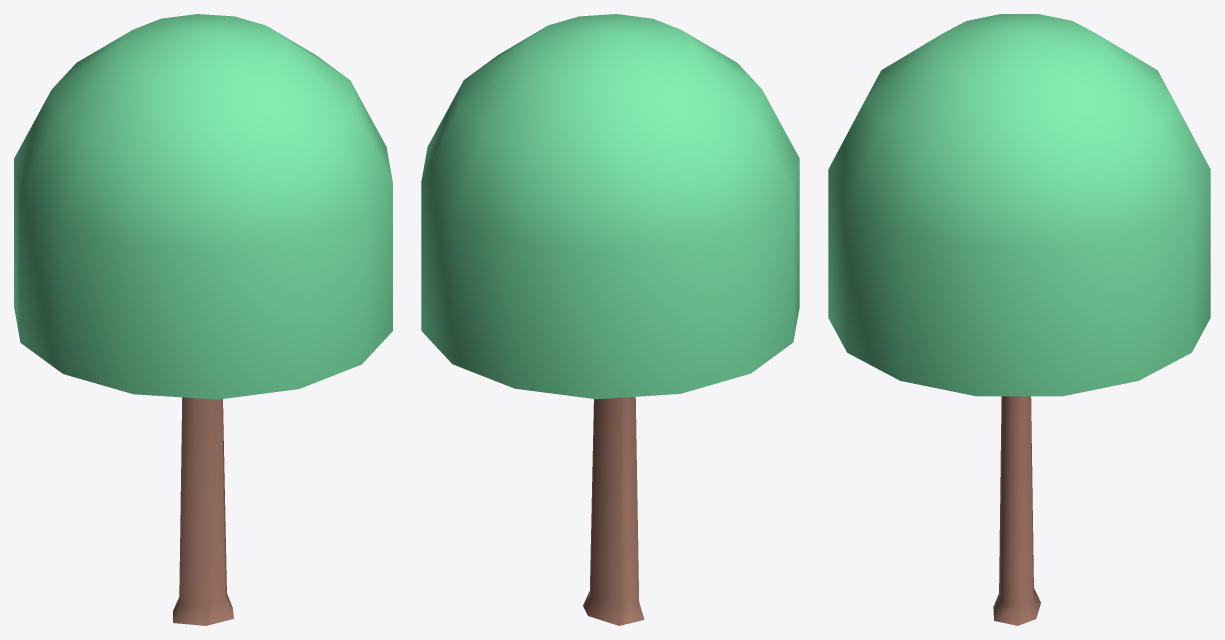
File: Town_Tree_D.FBX
3 views of the same model, side by side, from view 1: azimuth 30°, elevation 25°; view 2: azimuth 150°, elevation 25°; view 3: azimuth 270°, elevation 25° (orthographic).
Visible parts, largest first — view 1: Town_Tree_D; view 2: Town_Tree_D; view 3: Town_Tree_D.
Part boxes in pixels (box(x1,y1,x2,y2)): Town_Tree_D: box(14, 14, 392, 625); Town_Tree_D: box(421, 14, 799, 625); Town_Tree_D: box(828, 14, 1210, 625).
Size of the model in its own units: 164 by 282 by 168.
